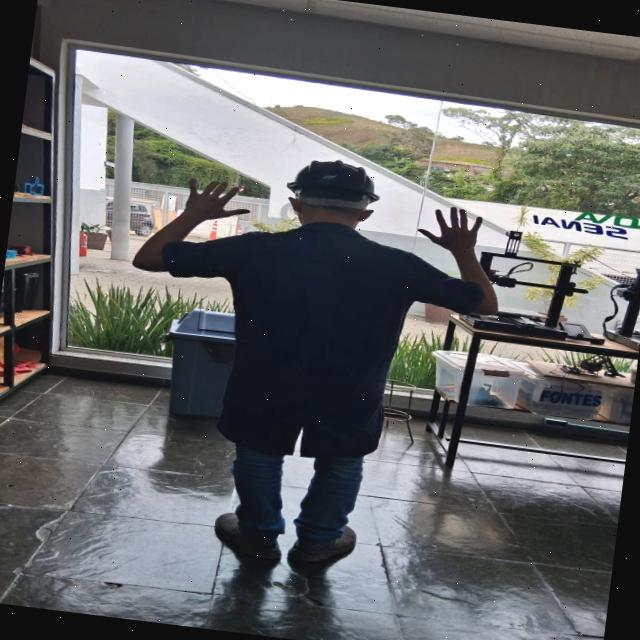BOTA: (293, 516, 361, 567), (210, 512, 286, 557)
CAPACETE: (286, 156, 385, 212)
JALECO: (167, 215, 486, 457)
SEM LUVA: (180, 174, 255, 223), (413, 205, 491, 252)
